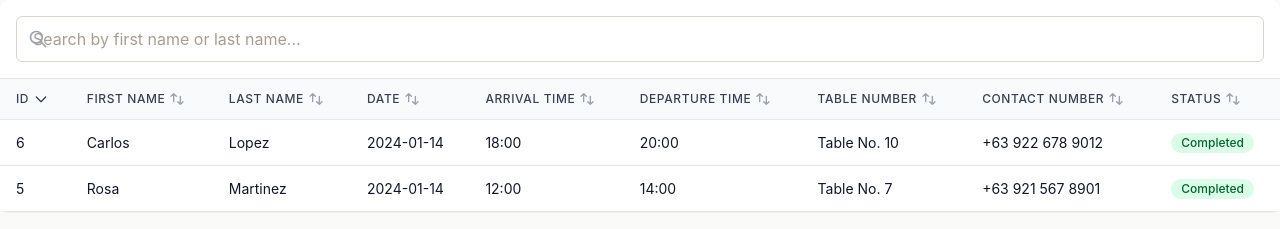
Test: HistoryTable › should filter reservations by search query
Step 1. Type "Rosa" into the field with placeholder "Search by first name or last name..." → (640, 39), box [16,16,1264,62]
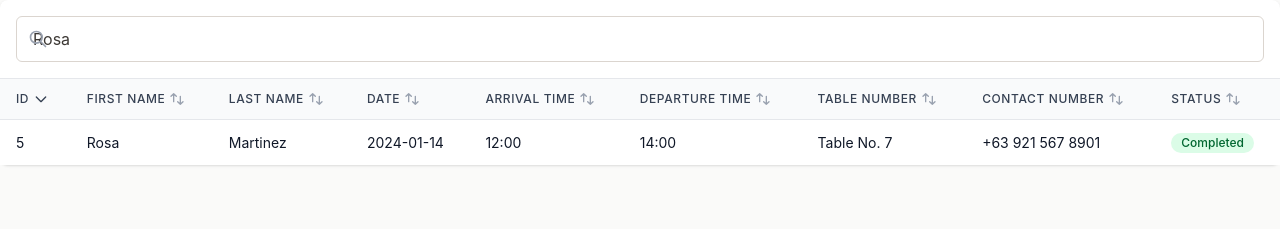
expect the text "Rosa" is shown: met, box [71,120,213,165]
expect the text "Carlos" is gone: met
